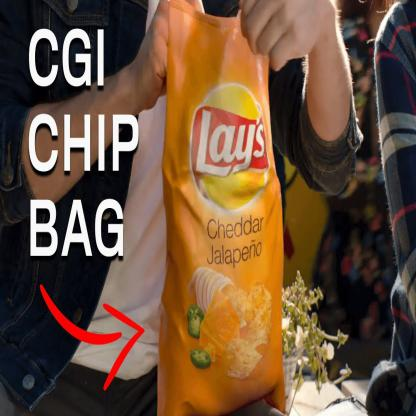potatochip: (157, 3, 291, 415)
